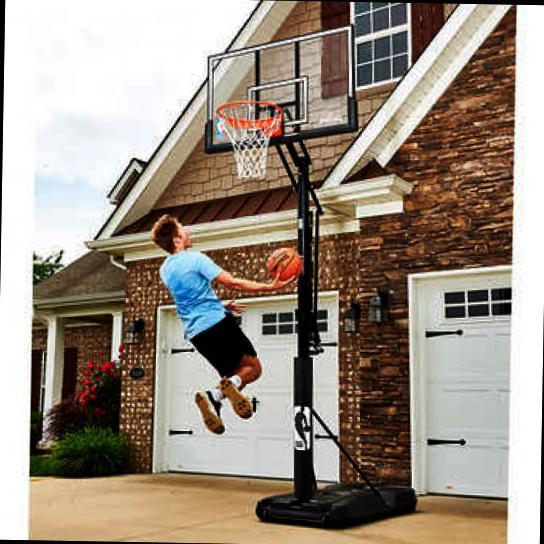basketball-hoop: (214, 98, 284, 182)
